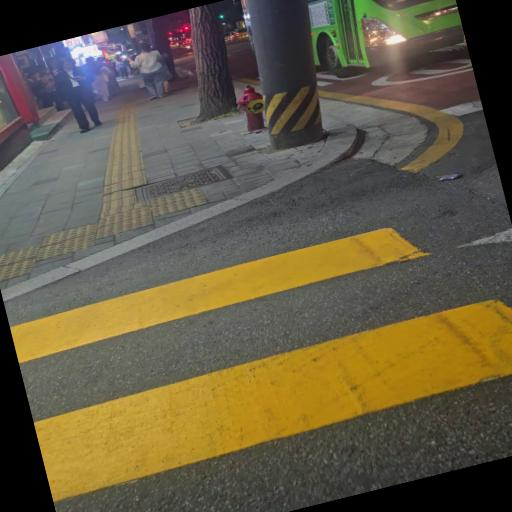yellow-crosswalk: (4, 180, 512, 512)
